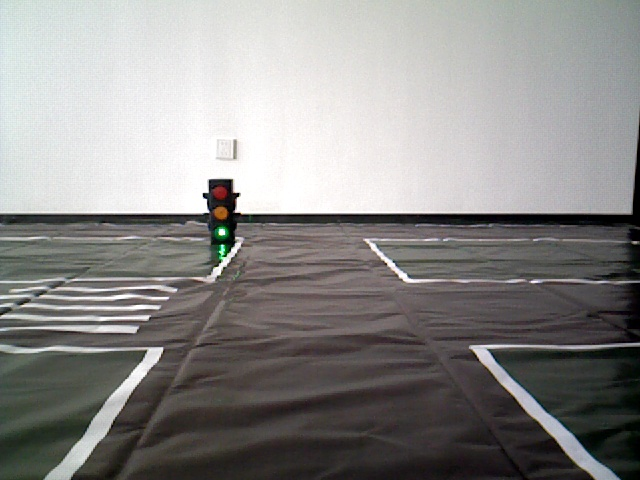green: (208, 181, 234, 242)
